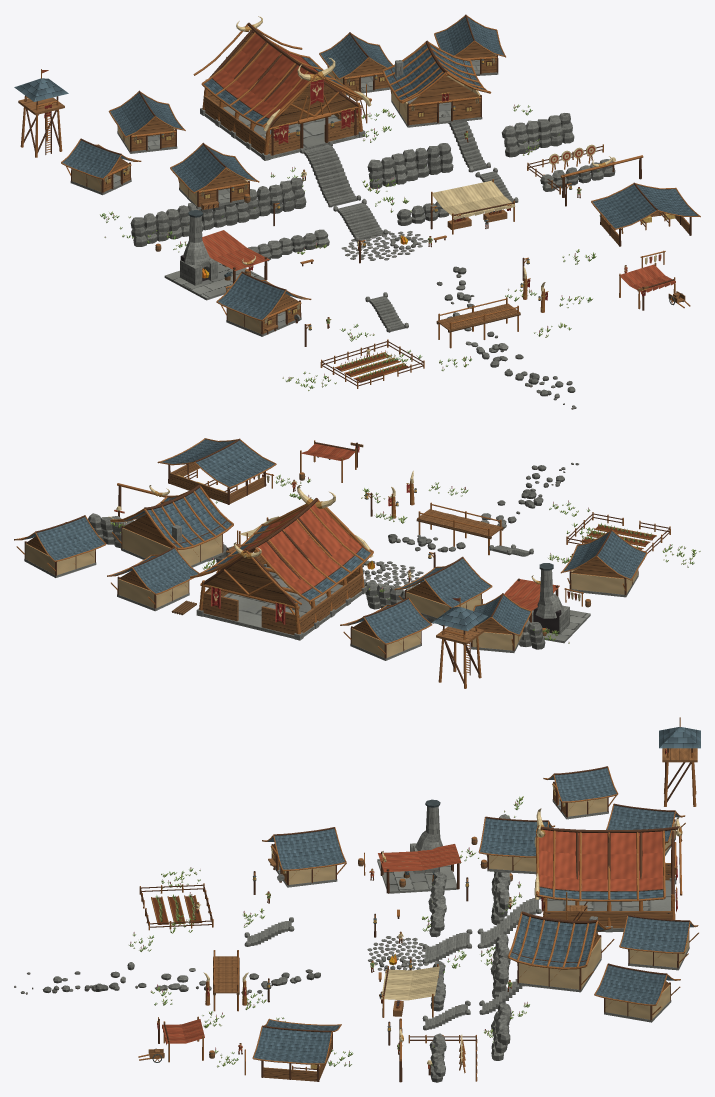
The model's file is phase_3.glb.
3 renders of one model, top to bottom at view 1: azimuth 30°, elevation 25°; view 2: azimuth 150°, elevation 25°; view 3: azimuth 270°, elevation 25°, orthographic. The views are drawn at different scales.
Visible parts, largest first — view 1: Praca_pontes_escadas_F3, hall_F3, tavern_F3, forge_F3, store_F3, workshop_F3, stable_F3, house_a_F3, house_c_F3, house_b_F3, house_d_F3, market_F3 (+4 smaller); view 2: hall_F3, Praca_pontes_escadas_F3, tavern_F3, stable_F3, workshop_F3, house_c_F3, house_d_F3, house_a_F3, store_F3, forge_F3, house_b_F3, tower_F3 (+2 smaller); view 3: Praca_pontes_escadas_F3, hall_F3, tavern_F3, forge_F3, stable_F3, workshop_F3, house_d_F3, house_c_F3, store_F3, house_b_F3, market_F3, tower_F3 (+4 smaller).
Boxes of the visible parts, bbox=[...] form: Praca_pontes_escadas_F3: bbox=[100, 104, 665, 409]; hall_F3: bbox=[193, 16, 371, 160]; tavern_F3: bbox=[382, 40, 491, 127]; forge_F3: bbox=[164, 210, 269, 300]; store_F3: bbox=[170, 142, 259, 209]; workshop_F3: bbox=[216, 271, 311, 336]; stable_F3: bbox=[591, 182, 700, 246]; house_a_F3: bbox=[108, 90, 185, 153]; house_c_F3: bbox=[319, 32, 392, 95]; house_b_F3: bbox=[61, 138, 141, 195]; house_d_F3: bbox=[434, 14, 505, 75]; market_F3: bbox=[431, 179, 515, 234]; hall_F3: bbox=[171, 485, 373, 640]; Praca_pontes_escadas_F3: bbox=[88, 462, 700, 649]; tavern_F3: bbox=[110, 484, 233, 567]; stable_F3: bbox=[157, 438, 276, 504]; workshop_F3: bbox=[560, 529, 647, 597]; house_c_F3: bbox=[107, 546, 199, 611]; house_d_F3: bbox=[14, 515, 106, 577]; house_a_F3: bbox=[340, 597, 432, 660]; store_F3: bbox=[394, 556, 492, 619]; forge_F3: bbox=[504, 563, 590, 643]; house_b_F3: bbox=[471, 593, 531, 652]; tower_F3: bbox=[432, 597, 487, 688]; Praca_pontes_escadas_F3: bbox=[14, 796, 545, 1082]; hall_F3: bbox=[534, 808, 682, 932]; tavern_F3: bbox=[507, 911, 614, 992]; forge_F3: bbox=[377, 799, 461, 893]; stable_F3: bbox=[252, 1018, 341, 1081]; workshop_F3: bbox=[262, 827, 346, 887]; house_d_F3: bbox=[594, 963, 680, 1022]; house_c_F3: bbox=[619, 914, 698, 970]; store_F3: bbox=[478, 816, 554, 874]; house_b_F3: bbox=[543, 766, 618, 819]; market_F3: bbox=[381, 964, 439, 1017]; tower_F3: bbox=[659, 717, 700, 806].
Size of the model in its own units: 82.62 by 26.99 by 96.88.
Materials: 1 (1 with a texture image).
